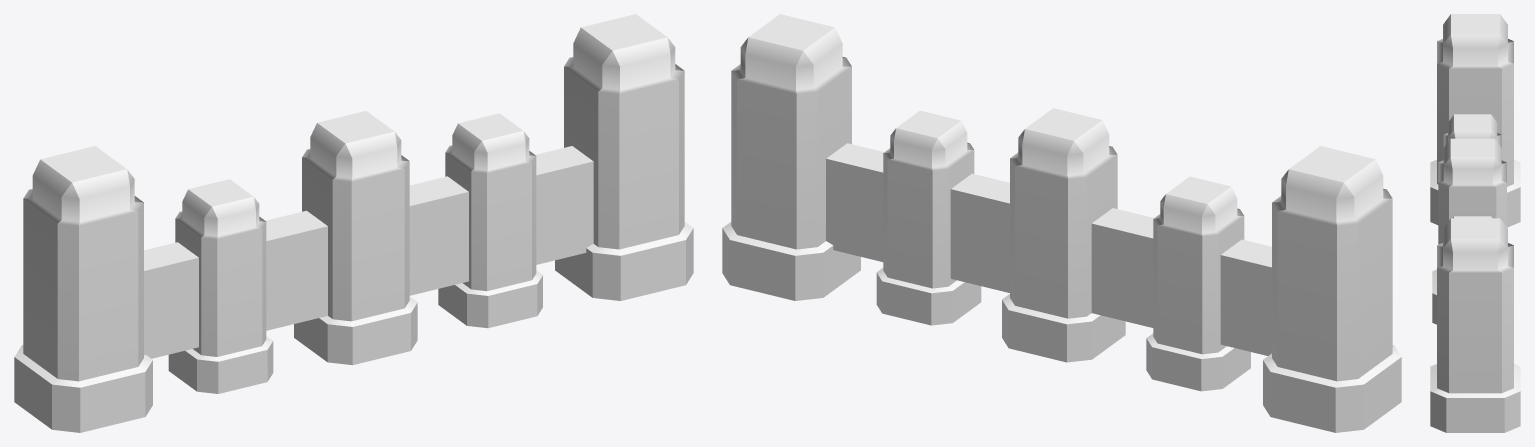
The model's file is Wall_Lv13_1.fbx.
3 views of the same model, side by side, from view 1: azimuth 30°, elevation 25°; view 2: azimuth 150°, elevation 25°; view 3: azimuth 270°, elevation 25° (orthographic). The views are drawn at different scales.
Visible parts, largest first — view 1: Wall; view 2: Wall; view 3: Wall.
Part boxes in pixels (bbox=[...]): Wall: bbox=[14, 14, 693, 432]; Wall: bbox=[722, 14, 1401, 432]; Wall: bbox=[1430, 14, 1520, 432].
Bounding box in the file's own units: 1.58 × 0.5641 × 0.2489.
